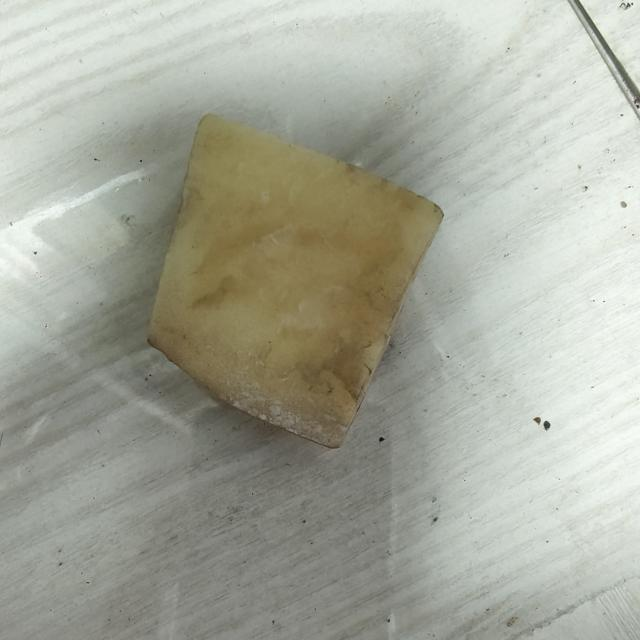-Kitchen waste - potato-: (148, 107, 448, 460)
